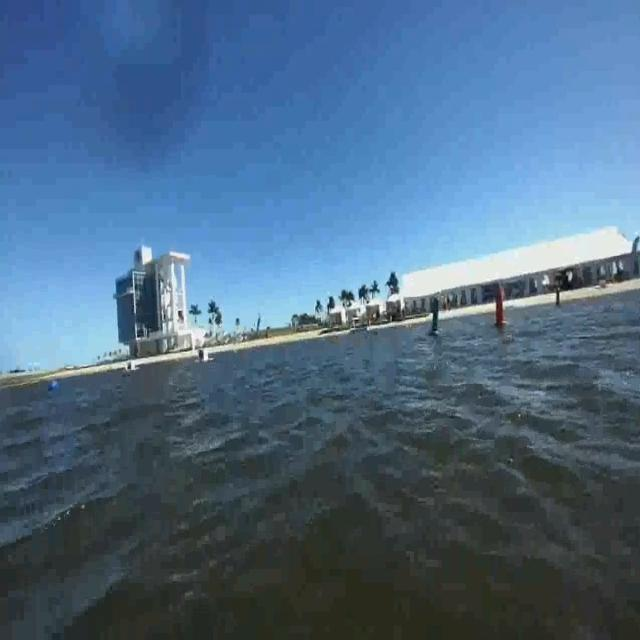blue-buoy: (49, 374, 56, 384)
green-column-buoy: (428, 289, 443, 343)
red-column-buoy: (492, 284, 507, 327)
